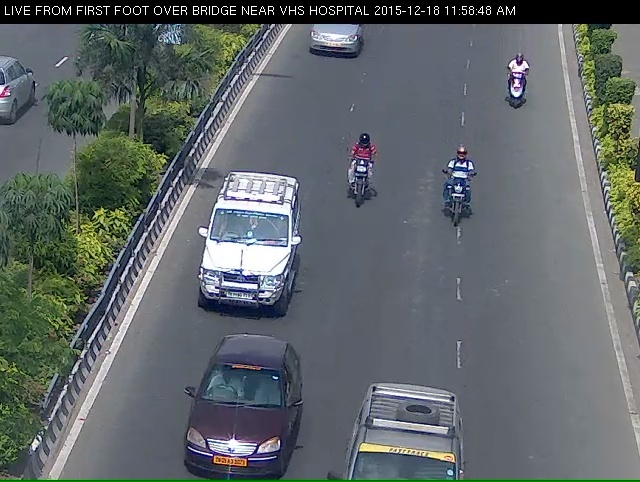Car: (177, 376, 285, 480), (208, 190, 282, 323), (294, 21, 370, 69)
Person: (436, 151, 479, 247), (343, 140, 378, 225)
